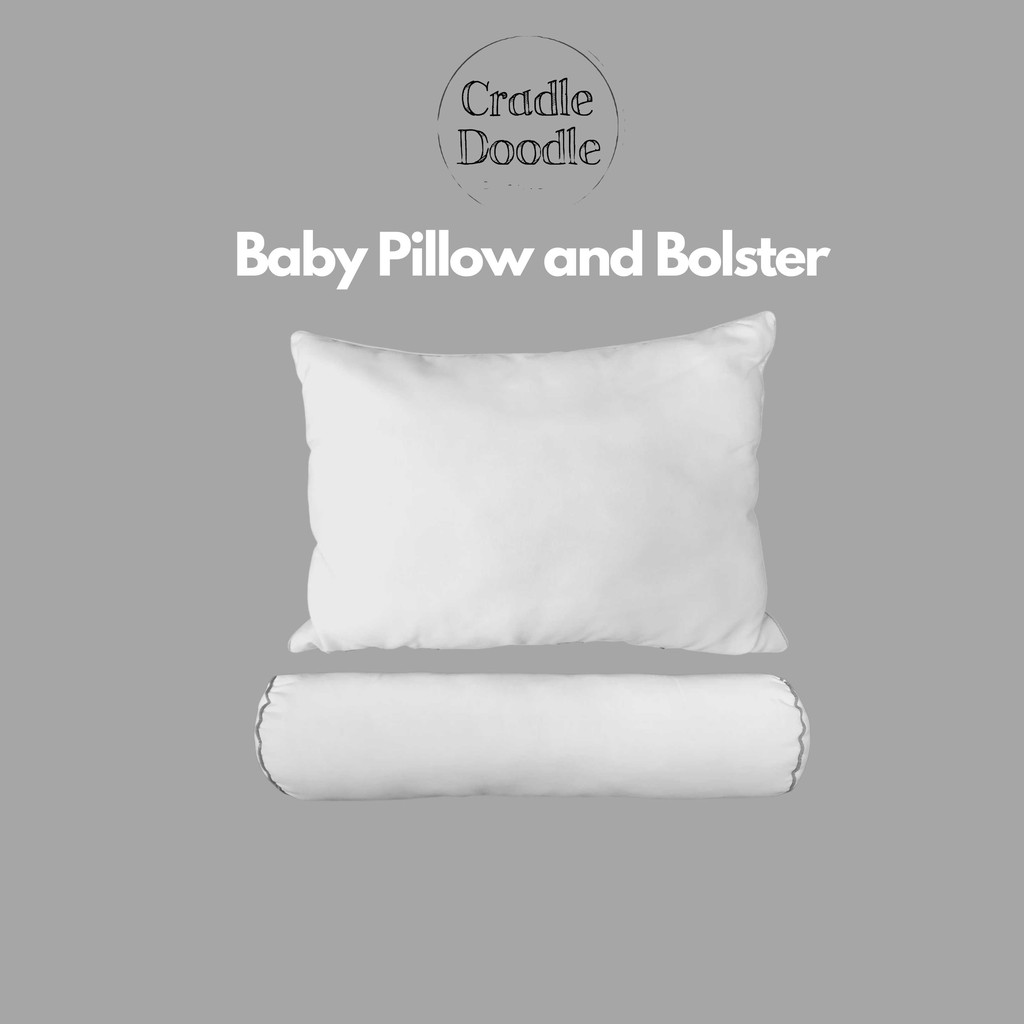bantal: (267, 322, 824, 664)
